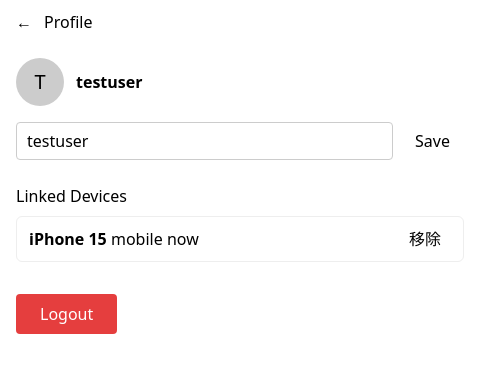
Test: Requirement 10.5: removeDevice failure keeps device in list › keeps device in list and shows error message when removeDevice throws
Expected: the text "iPhone 15" is shown, [29,228,107,250]
// Click the remove button for the device
Step 1. Click the button "移除" → click(425, 239), box [399,225,451,253]
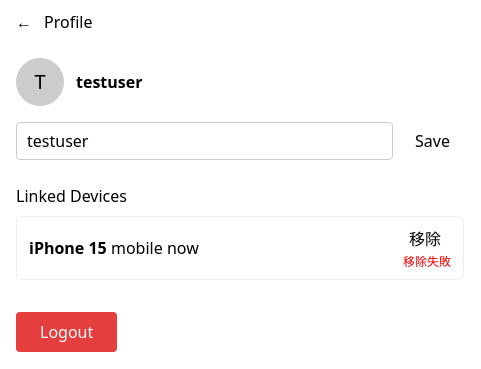
Expected: the text "iPhone 15" is shown, [29,237,107,259]
Expected: the text "移除失敗" is shown, [403,253,451,271]
